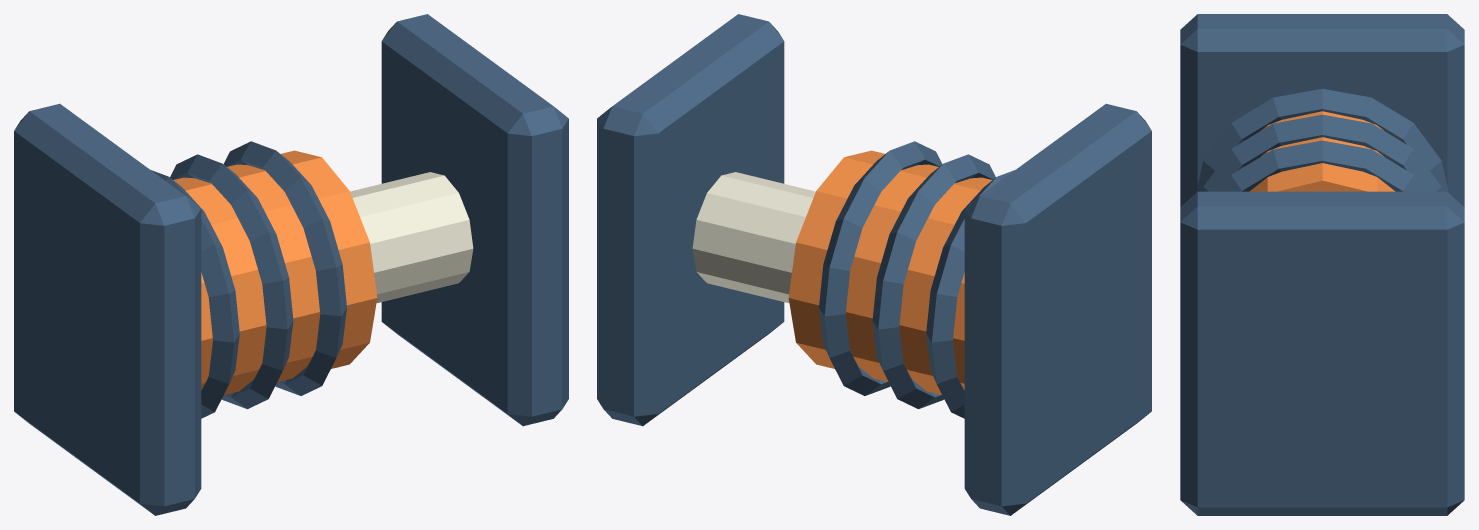
Rendered from damper.glb.
3 renders of one model, left to right at view 1: azimuth 30°, elevation 25°; view 2: azimuth 150°, elevation 25°; view 3: azimuth 270°, elevation 25°, orthographic.
Parts seen in each view (by area): view 1: Bumper mount, Bumper mount.001, Hydraulic cylinder, Damper shaft, Cylinder rib.002, Cylinder rib.001, Cylinder rib; view 2: Bumper mount, Bumper mount.001, Hydraulic cylinder, Damper shaft, Cylinder rib.002, Cylinder rib.001, Cylinder rib; view 3: Bumper mount.001, Bumper mount, Cylinder rib, Cylinder rib.001, Cylinder rib.002, Hydraulic cylinder.
Boxes of the visible parts, box(x1,y1,x2,y2) form: Bumper mount: box(14, 103, 201, 515); Bumper mount.001: box(381, 14, 568, 426); Hydraulic cylinder: box(173, 150, 377, 394); Damper shaft: box(350, 172, 473, 302); Cylinder rib.002: box(223, 141, 346, 395); Cylinder rib.001: box(170, 154, 293, 409); Cylinder rib: box(151, 170, 239, 418); Bumper mount: box(964, 103, 1151, 515); Bumper mount.001: box(597, 14, 784, 426); Hydraulic cylinder: box(788, 150, 992, 394); Damper shaft: box(692, 172, 815, 302); Cylinder rib.002: box(819, 141, 942, 395); Cylinder rib.001: box(872, 154, 995, 409); Cylinder rib: box(926, 170, 1014, 418); Bumper mount.001: box(1180, 191, 1464, 515); Bumper mount: box(1180, 14, 1464, 206); Cylinder rib: box(1196, 88, 1448, 192); Cylinder rib.001: box(1202, 114, 1442, 191); Cylinder rib.002: box(1219, 140, 1425, 191); Hydraulic cylinder: box(1249, 111, 1395, 191).
Size of the model in its own units: 1.12 by 0.78 by 0.65.
